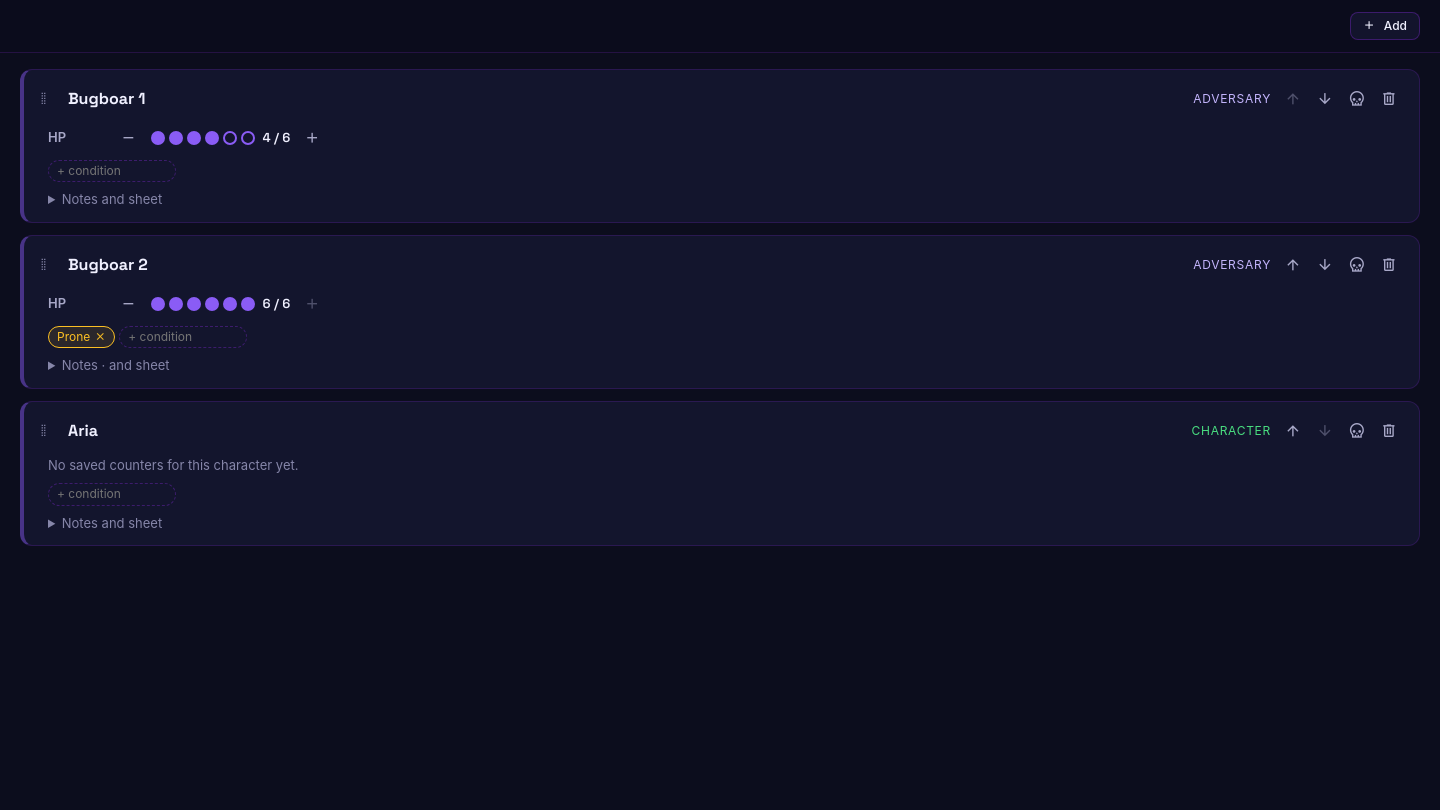
Test: EncounterTracker › shows what the server refused
Click the button named "Decrease HP" next to "4 / 6": (128, 138) [114,124,142,152]
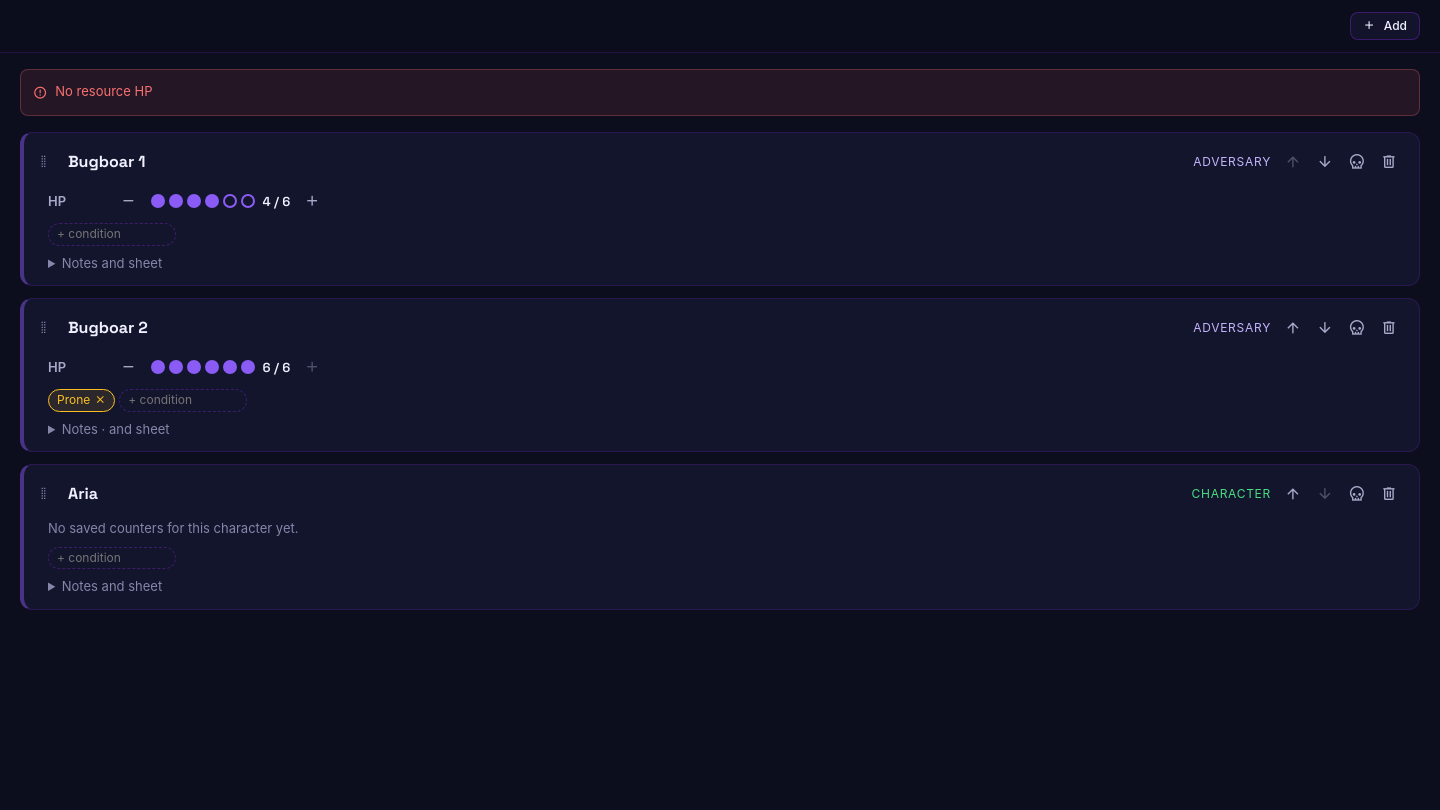
Expected: the message with class "rk-alert" reads "No resource HP", [55,83,152,99]
